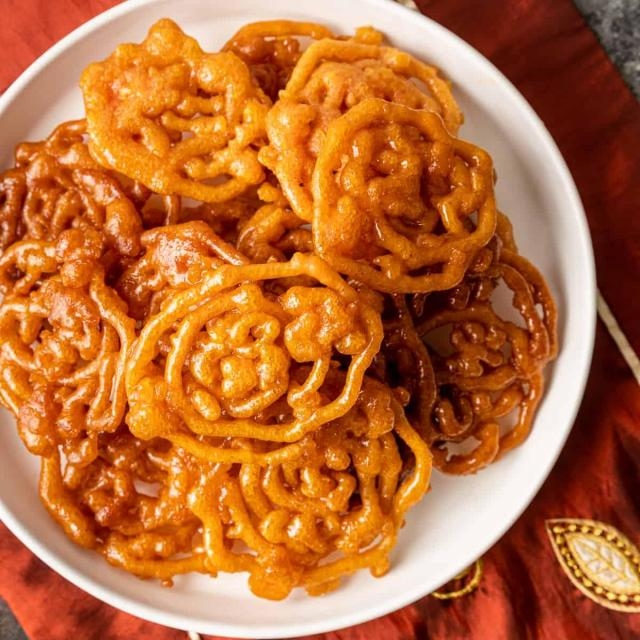jalebi: (19, 21, 570, 604)
